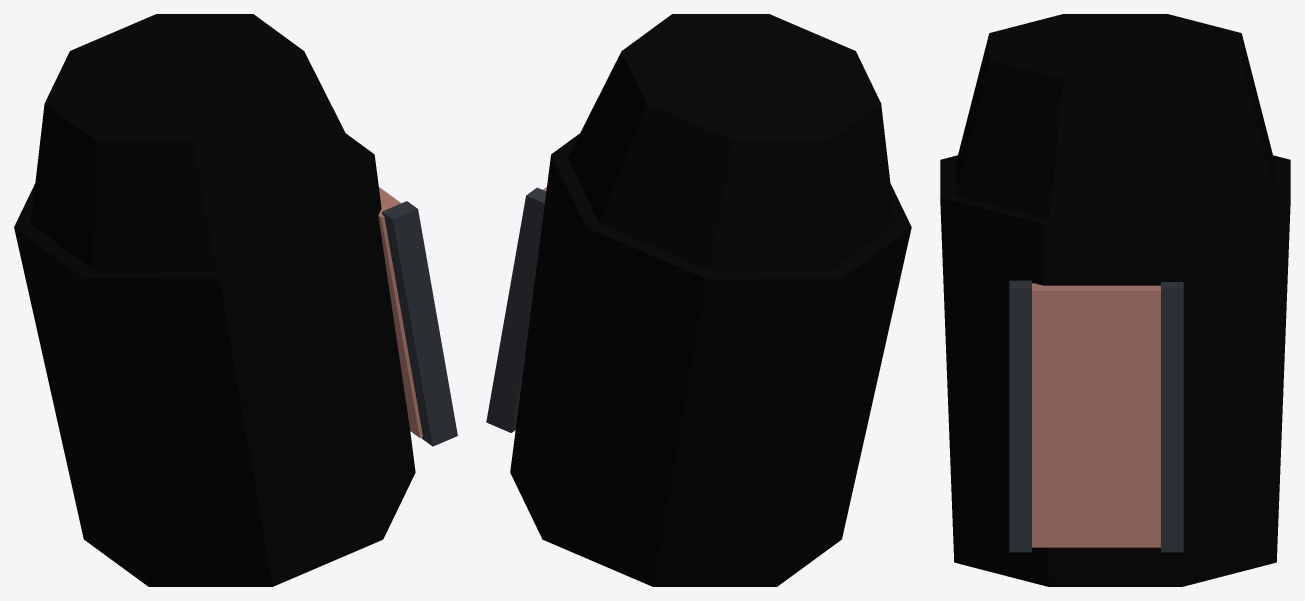
Rendered from inf_driver_upper_leg_r.fbx.
3 renders of one model, left to right at view 1: azimuth 30°, elevation 25°; view 2: azimuth 150°, elevation 25°; view 3: azimuth 270°, elevation 25°, orthographic. The views are drawn at different scales.
Visible parts, largest first — view 1: inf_driver_upper_leg_r; view 2: inf_driver_upper_leg_r; view 3: inf_driver_upper_leg_r.
Part boxes in pixels (<box>): inf_driver_upper_leg_r: <box>14,14,457,586</box>; inf_driver_upper_leg_r: <box>486,14,911,586</box>; inf_driver_upper_leg_r: <box>940,14,1290,586</box>.
Bounding box in the file's own units: 112 × 147 × 92.39.
